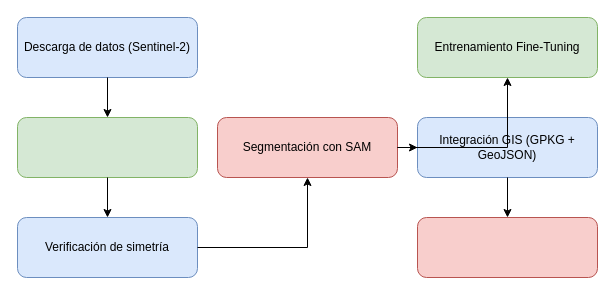
The diagram is 615 pixels wide and 295 high, and some of its shapes have lost their labels. The shapes that lost their labels are listed below. From the top down, each one's centre as x and y in pixels, then its label:
At (107,147): "Procesamiento Sobel".
At (507,247): "API de despliegue".
